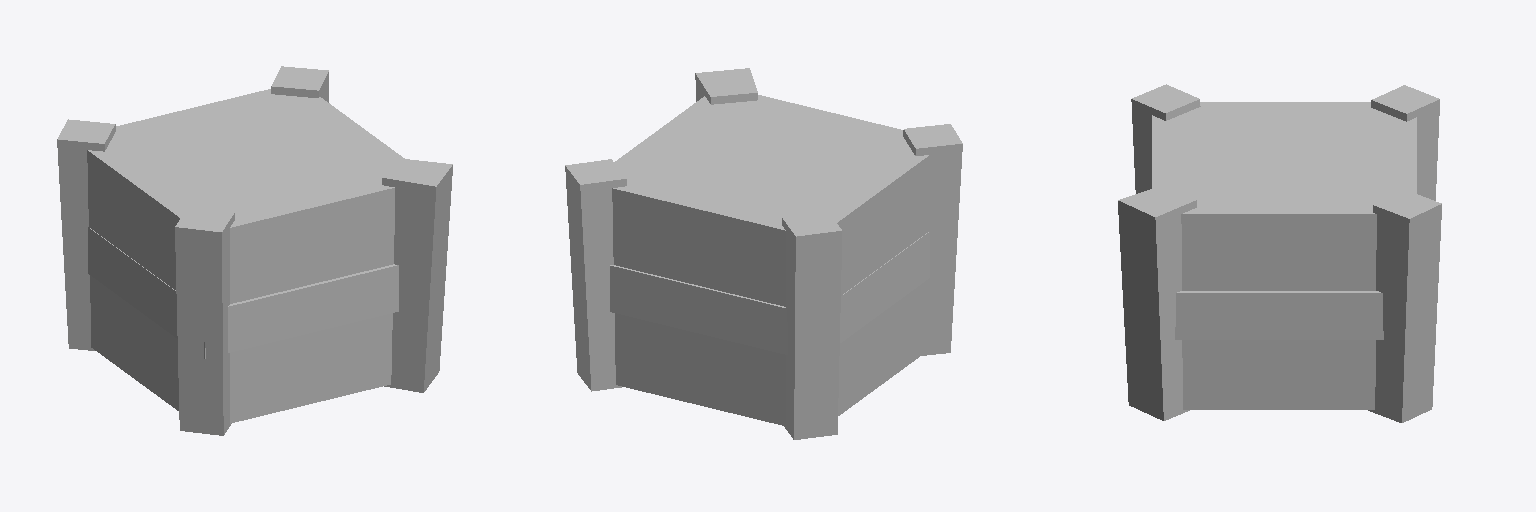
File: orccrate06.obj
3 views of the same model, side by side, from view 1: azimuth 30°, elevation 25°; view 2: azimuth 150°, elevation 25°; view 3: azimuth 270°, elevation 25° (orthographic).
Visible parts, largest first — view 1: OrcCrate06; view 2: OrcCrate06; view 3: OrcCrate06.
Part boxes in pixels (bbox=[...]): OrcCrate06: bbox=[57, 66, 452, 435]; OrcCrate06: bbox=[565, 68, 962, 439]; OrcCrate06: bbox=[1118, 84, 1441, 422].
Size of the model in its own units: 2 by 1.44 by 2.03.